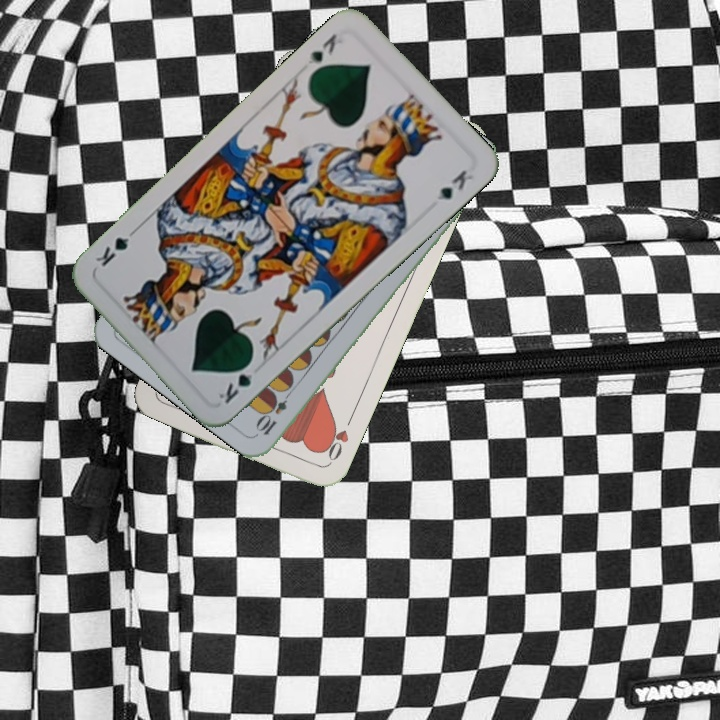E10: (253, 384, 296, 438)
GK: (214, 356, 257, 407), (303, 29, 340, 69)
HO: (317, 412, 356, 468)
